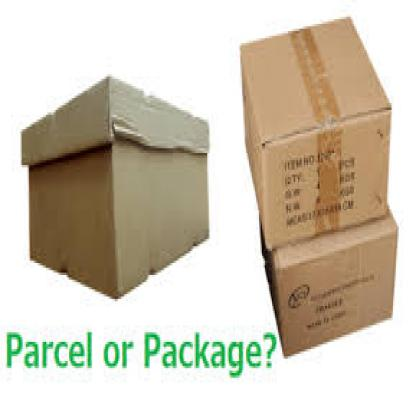paquete: (14, 62, 231, 304), (231, 16, 394, 236), (254, 201, 404, 366)
